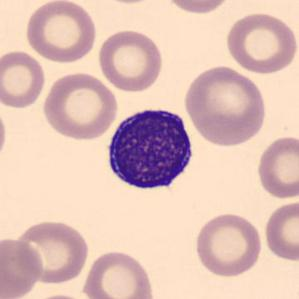Lymphocyte: (100, 100, 200, 198)
RBC: (181, 64, 269, 148), (40, 70, 120, 142), (10, 217, 90, 286), (222, 9, 298, 75), (192, 210, 264, 279), (22, 0, 98, 64), (96, 27, 166, 94), (80, 247, 156, 299), (254, 134, 298, 201), (0, 48, 47, 110), (0, 235, 45, 299), (262, 199, 298, 263), (162, 0, 234, 15), (0, 99, 9, 166), (25, 291, 94, 299), (91, 0, 163, 6)
